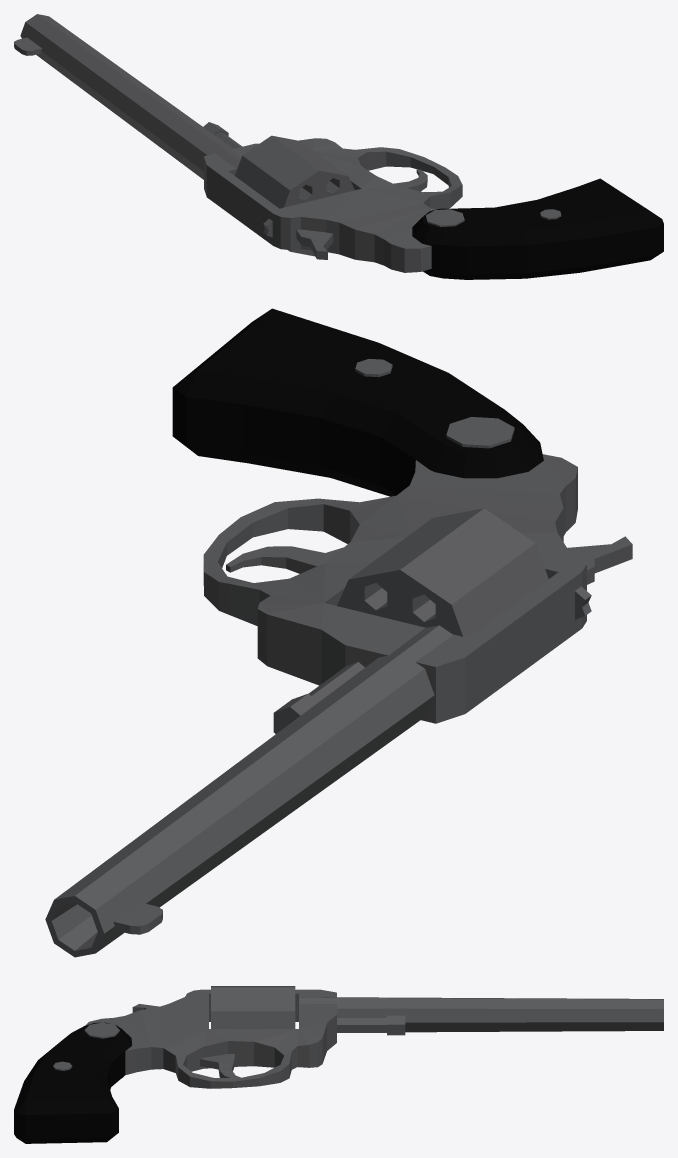
File: Revolver.glb
3 views of the same model, one above another, from view 1: azimuth 30°, elevation 25°; view 2: azimuth 150°, elevation 25°; view 3: azimuth 270°, elevation 25° (orthographic). The views are drawn at different scales.
Visible parts, largest first — view 1: Pistol; view 2: Pistol; view 3: Pistol.
Boxes of the visible parts, <box> form: Pistol: <box>14,14,663,279</box>; Pistol: <box>45,308,632,957</box>; Pistol: <box>14,986,663,1143</box>.
Size of the model in its own units: 0.2919 by 0.0821 by 0.6345.
1 material, 1 textured.
